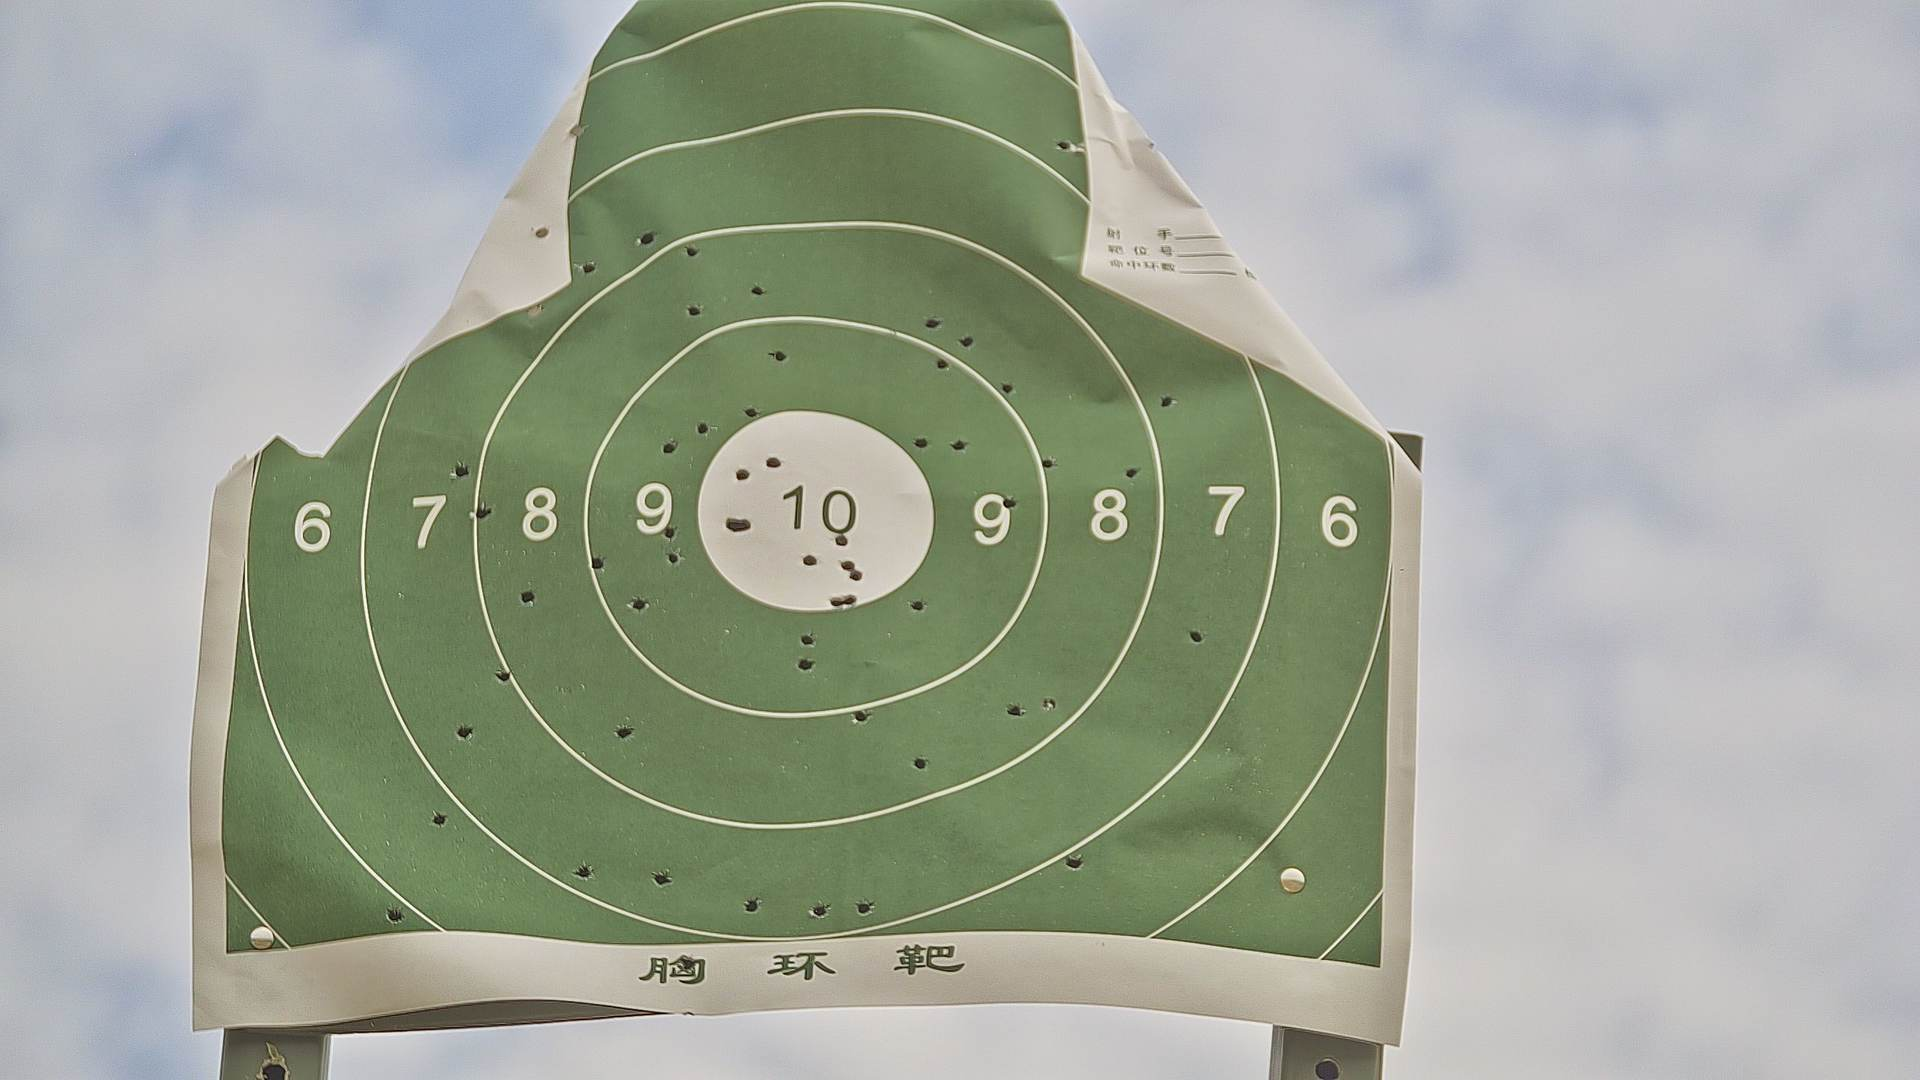hole: (795, 657, 818, 670), (615, 724, 633, 740), (684, 303, 704, 318), (770, 349, 790, 364), (433, 811, 447, 829), (1065, 855, 1084, 869), (458, 723, 473, 738), (527, 306, 546, 319), (694, 421, 712, 434), (662, 440, 678, 455), (454, 463, 468, 479), (654, 872, 670, 886), (856, 899, 872, 914), (841, 593, 857, 608), (1040, 699, 1058, 712), (632, 595, 644, 613), (475, 505, 489, 520), (521, 591, 535, 605), (1001, 381, 1015, 396), (952, 438, 967, 452), (835, 533, 849, 547), (802, 554, 818, 567), (911, 756, 927, 769), (1007, 704, 1023, 717), (1189, 629, 1203, 645), (385, 909, 402, 920), (669, 550, 680, 567), (736, 520, 753, 531), (849, 570, 866, 582), (749, 285, 767, 295), (839, 560, 857, 571), (663, 525, 678, 538), (926, 316, 940, 330), (766, 455, 781, 468), (800, 633, 815, 646), (852, 709, 866, 723), (582, 262, 597, 274), (745, 898, 757, 914), (909, 600, 924, 612), (828, 595, 841, 608), (498, 669, 513, 680), (1159, 394, 1174, 406), (1124, 465, 1138, 477), (578, 866, 593, 877), (678, 957, 694, 968), (591, 555, 603, 568), (812, 906, 825, 918), (938, 357, 949, 371), (736, 469, 749, 481), (1002, 496, 1015, 508), (959, 335, 973, 345), (742, 407, 758, 417), (574, 124, 585, 136), (1040, 458, 1054, 468), (640, 233, 654, 243), (727, 517, 736, 531), (916, 436, 927, 448), (687, 245, 699, 255), (1058, 142, 1069, 150)
kernel: (807, 512, 819, 516)
target: (218, 5, 1394, 967)
ten: (695, 407, 934, 613)
